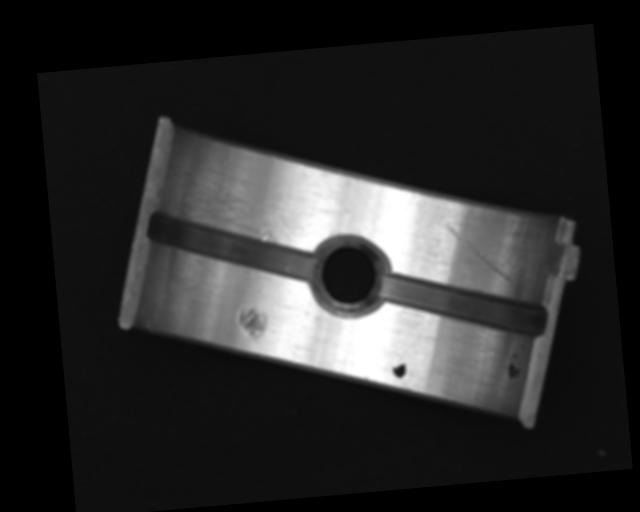blot: (505, 351, 523, 380), (391, 355, 408, 379)
bruise: (237, 305, 271, 346)
gap: (146, 197, 318, 294), (378, 260, 549, 349)
hole: (310, 234, 388, 319)
nick: (444, 215, 512, 288)
scratch: (164, 155, 305, 259)
